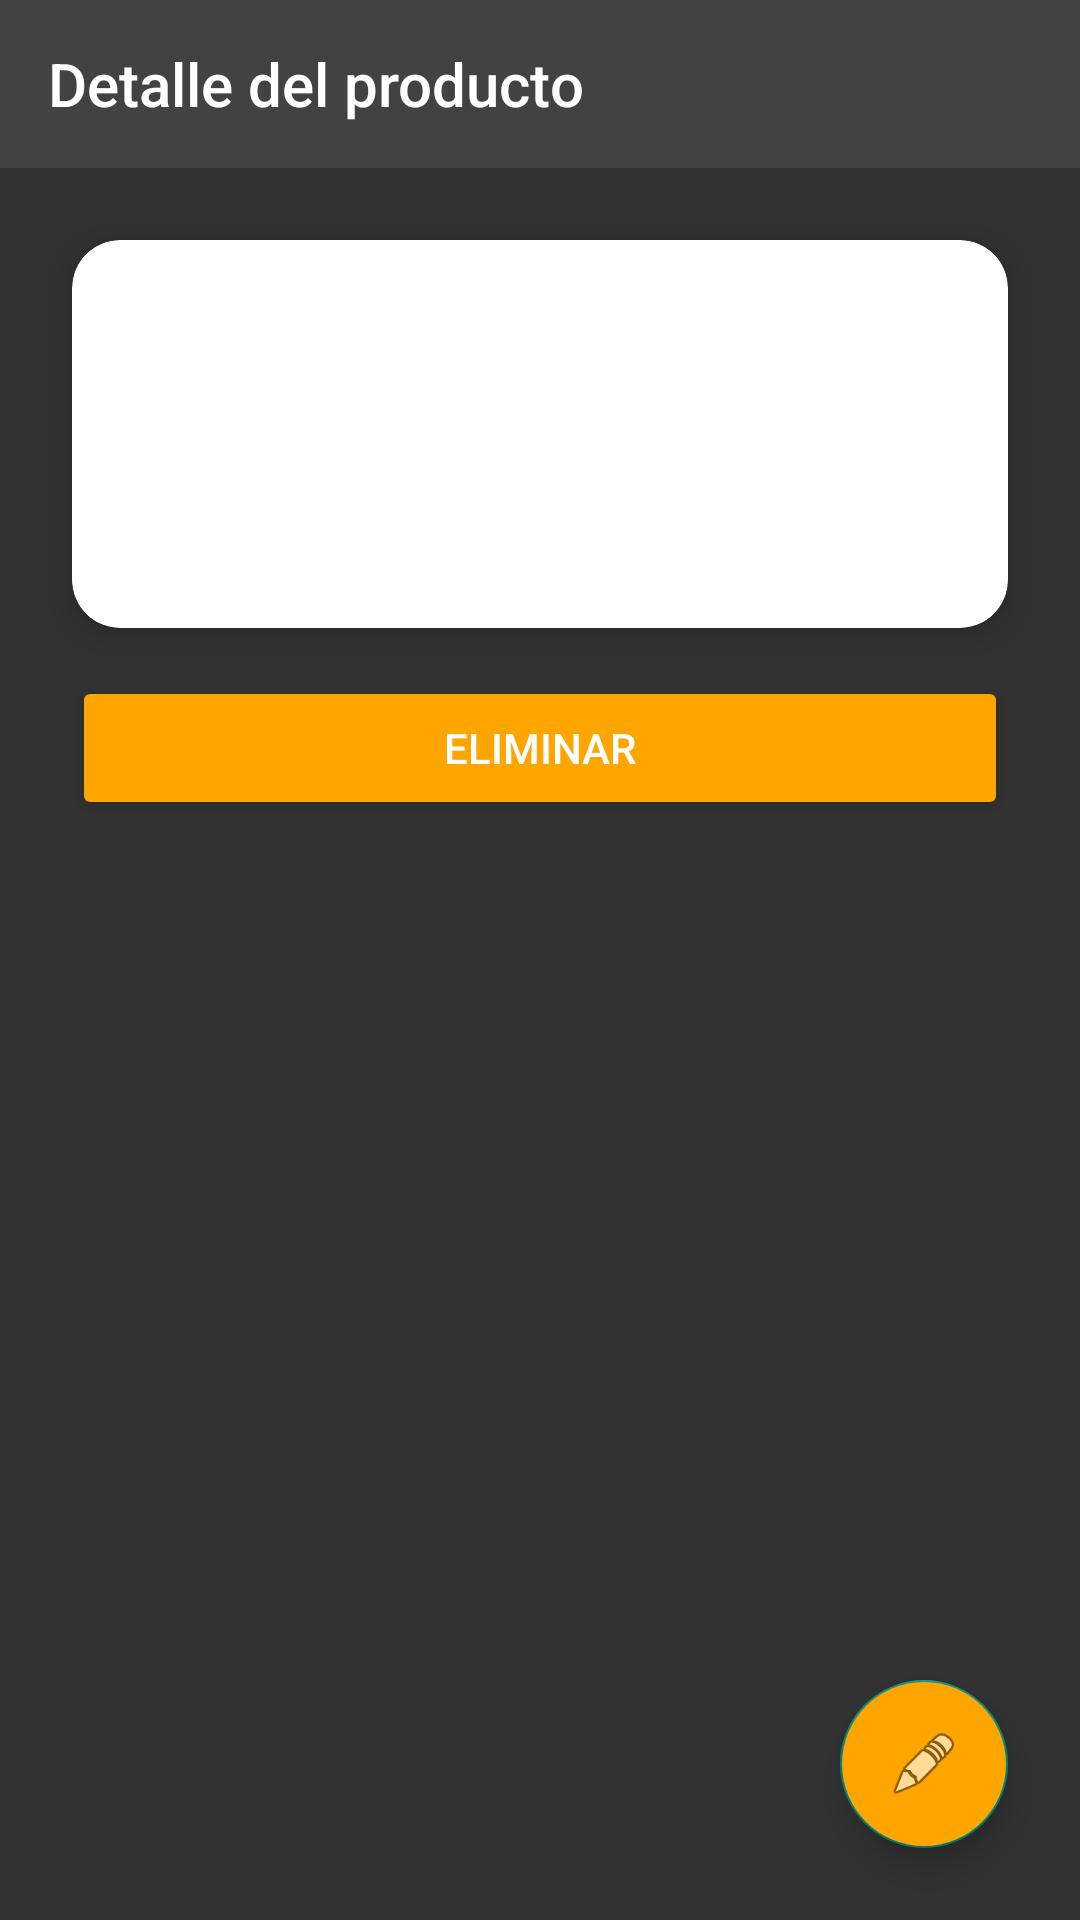

Named icons in this screenshot (1080 x 1920) and their centers, (x=x, y=y):
edit: (x=924, y=1764)
